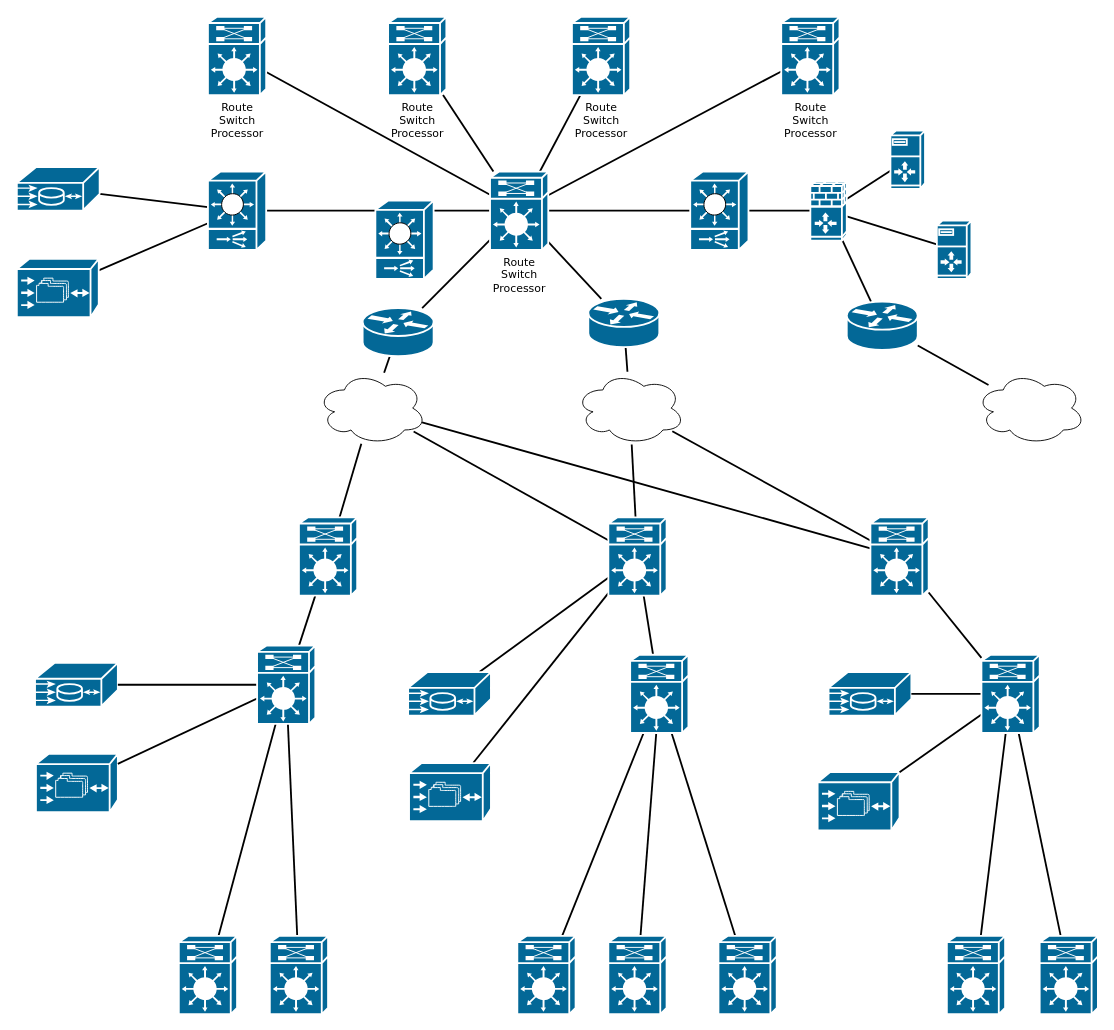
This 1114x1030 diagram has some shape labels left out. The box of each missing label's shape, as (x1, y1, x2, y2) in pixels:
Cloud: (575, 371, 685, 445)
Internet: (975, 371, 1085, 445)
LAN: (316, 371, 426, 445)
